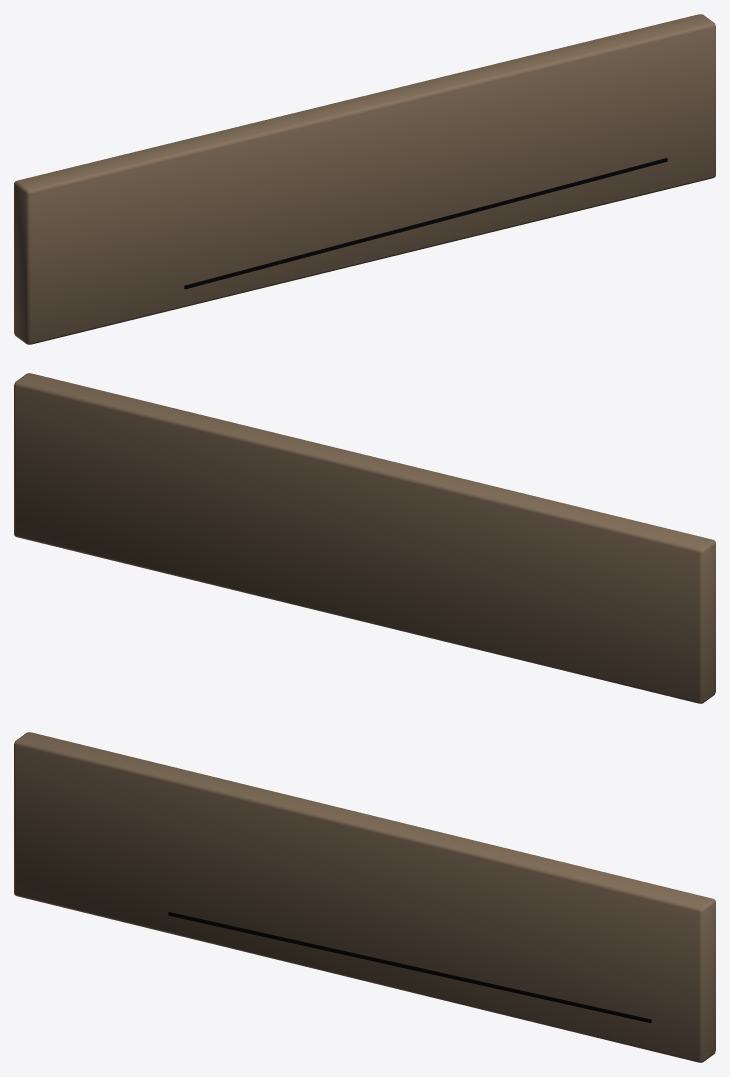
The model's file is low_board_0.glb.
3 renders of one model, top to bottom at view 1: azimuth 30°, elevation 25°; view 2: azimuth 150°, elevation 25°; view 3: azimuth 330°, elevation 25°, orthographic.
Visible parts, largest first — view 1: g_signbrown, g_crack; view 2: g_signbrown; view 3: g_signbrown, g_crack.
Part boxes in pixels (x1=…): g_signbrown: x1=14, y1=14, x2=715, y2=344; g_crack: x1=184, y1=158, x2=667, y2=289; g_signbrown: x1=14, y1=373, x2=715, y2=703; g_signbrown: x1=14, y1=732, x2=715, y2=1062; g_crack: x1=168, y1=912, x2=651, y2=1022.
Size of the model in its own units: 1.3 by 0.28 by 0.052.
